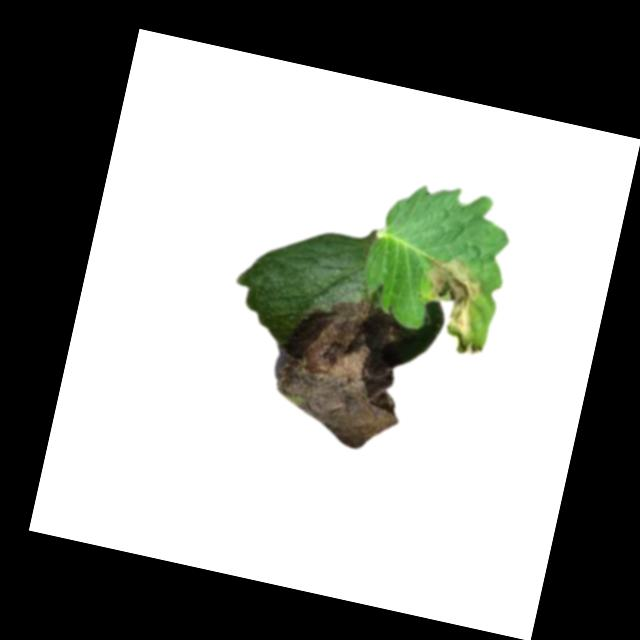Late_blight: (259, 288, 430, 460), (407, 253, 501, 360)
